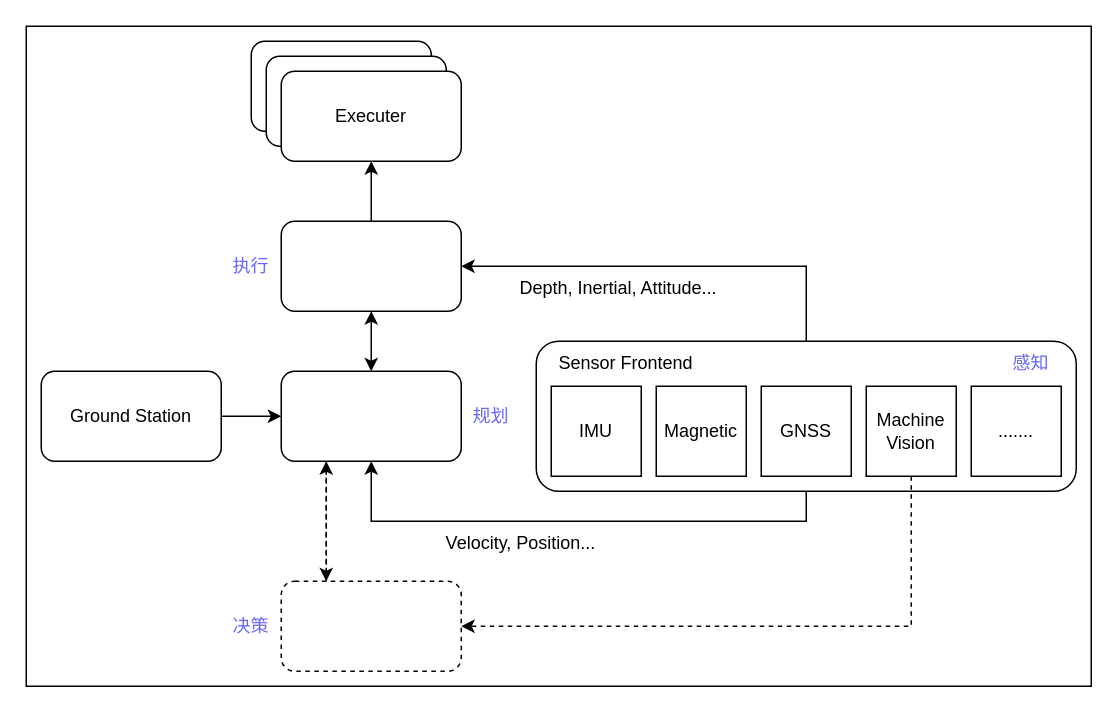
Image size: 1118x713. Some labels were removed from this diagram. The box of each missing label's shape, as (x1, y1, x2, y2) in pixels:
Backend Controller: (280, 220, 461, 311)
Frontend ISP & AI: (280, 580, 461, 671)
Planner: (280, 370, 461, 461)
